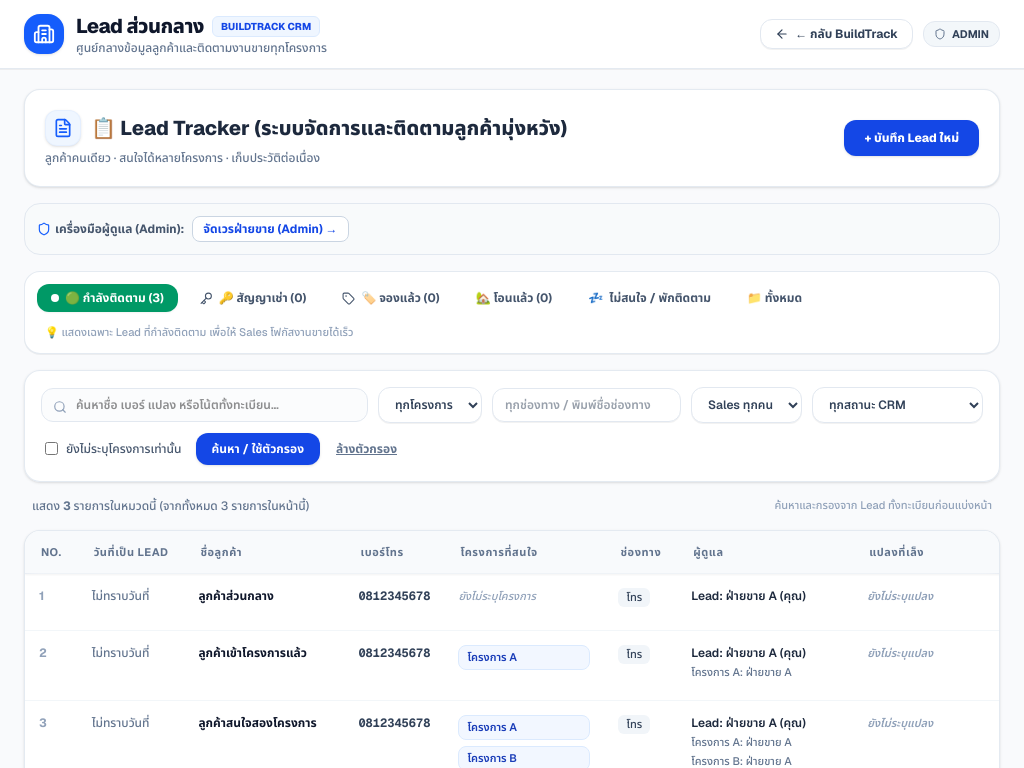
Scenario: central lead workspace › does not show schedule entry to Admin while disabled or while the intake form is open
Click the button "+ บันทึก Lead ใหม่".
click(912, 138)  # box [844, 120, 979, 156]
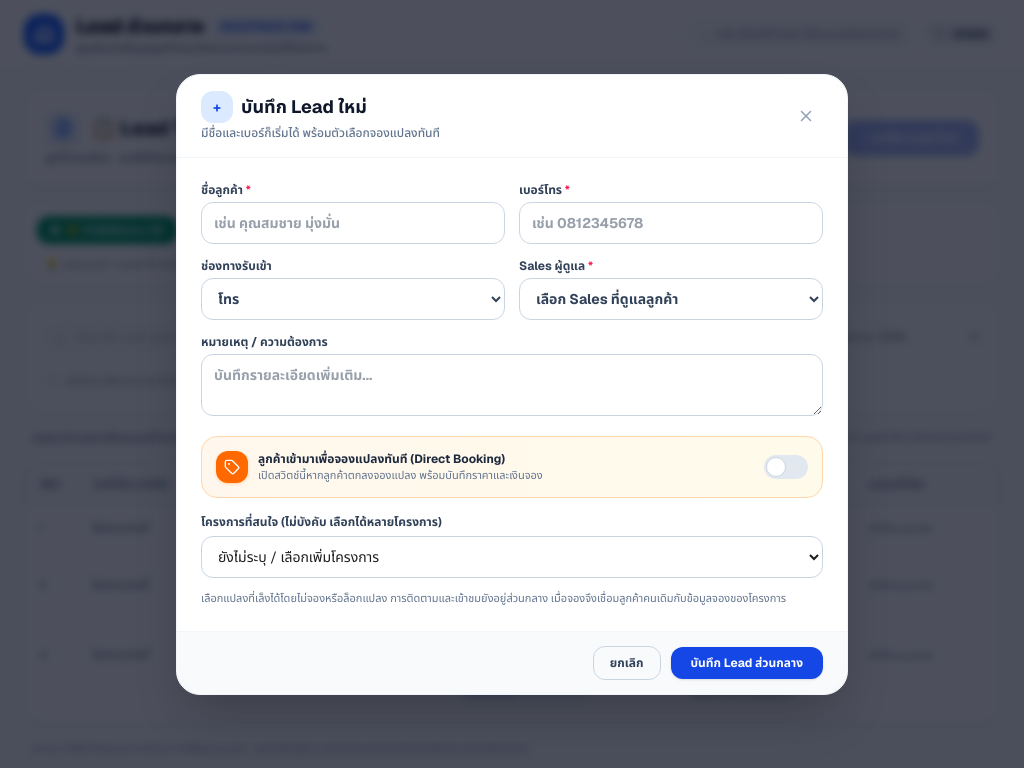
expect the link "จัดเวรฝ่ายขาย (Admin) →" is gone: met
